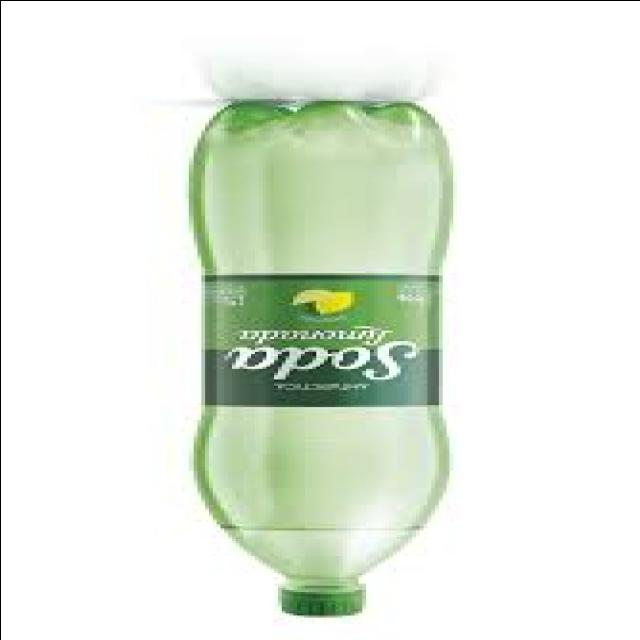bottle: (190, 102, 447, 615)
